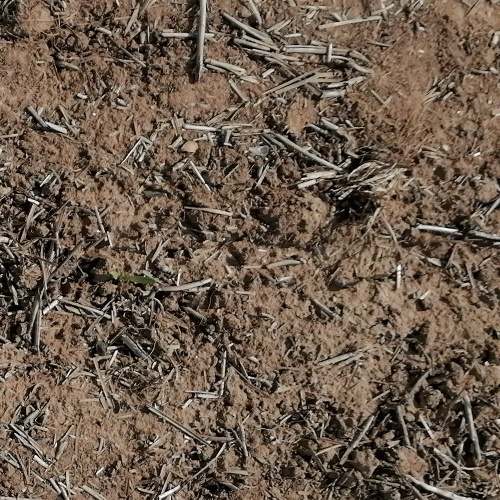beet: (108, 269, 157, 285)
